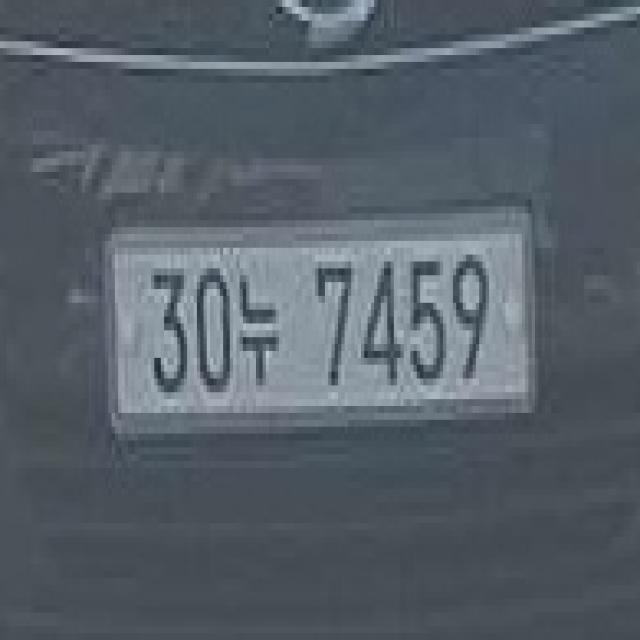0: (193, 255, 230, 392)
3: (151, 262, 187, 392)
4: (361, 255, 404, 392)
5: (407, 254, 446, 386)
7: (315, 254, 355, 386)
9: (453, 248, 489, 385)
license_plate: (105, 200, 542, 433)
nu: (236, 268, 282, 386)
